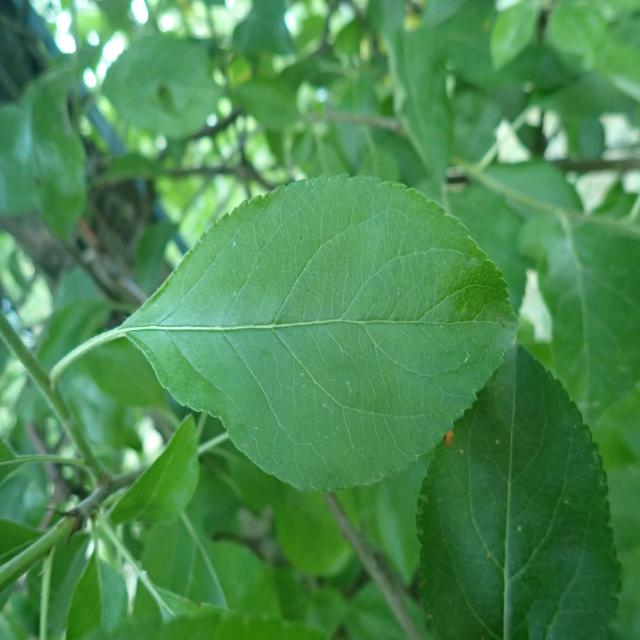healthy: (124, 173, 520, 494)
